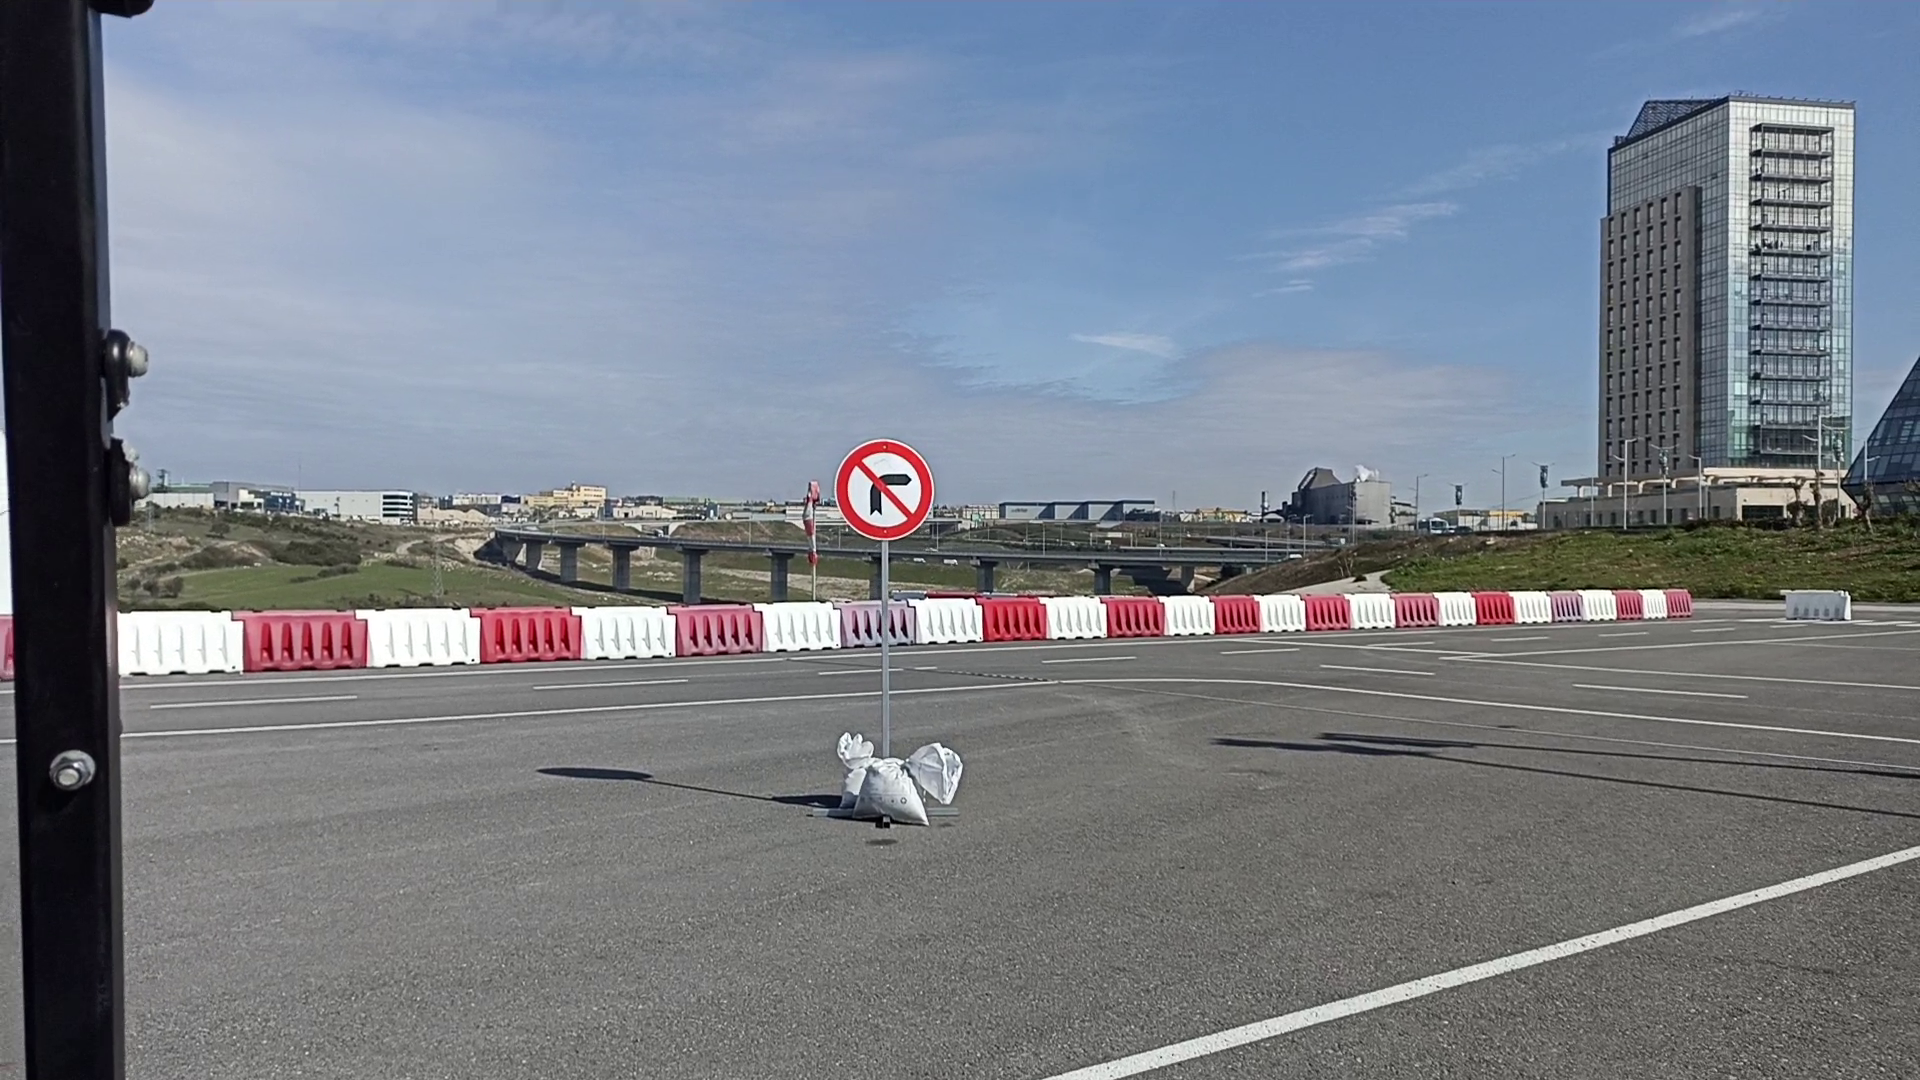noleftturn: (832, 436, 936, 545)
